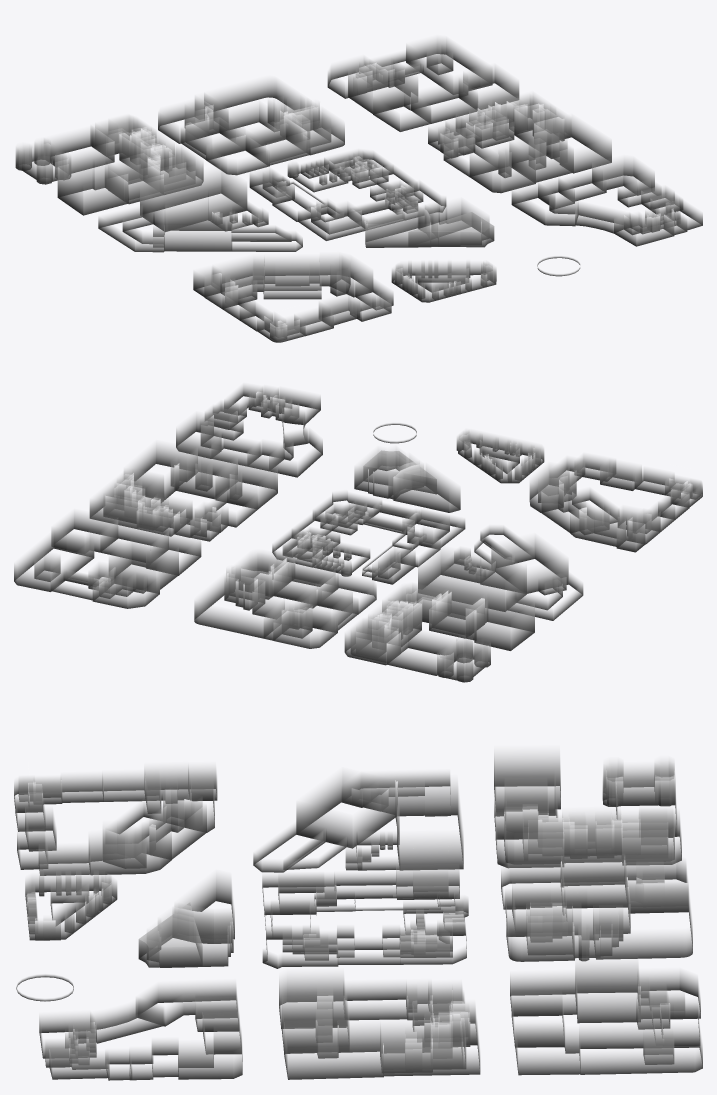
File: Pamplona_3D_Test.glb
3 renders of one model, top to bottom at view 1: azimuth 30°, elevation 25°; view 2: azimuth 150°, elevation 25°; view 3: azimuth 270°, elevation 25°, orthographic. The views are drawn at different scales.
Visible parts, largest first — view 1: pCube1228, pCube1251, pCube1181, pCube1224, pCube1317, pCube1281, pCube1454, pCube1277, pCube1452, pCube1287, pCube1453, pCube1290 (+80 smaller); view 2: pCube1228, pCube1251, pCube1181, pCube1224, pCube1281, pCube1277, pCube1317, pCube1454, pCube1452, pCube1179, pCube1453, pCube1287 (+82 smaller); view 3: pCube1281, pCube1454, pCube1224, pCube1251, pCube1228, pCube1181, pCube1277, pCube1289, pCube1453, pCube1317, pCube1323, pCube1867 (+95 smaller).
Boxes of the visible parts, x1=… form: pCube1228: x1=140, y1=168, x2=247, y2=232; pCube1251: x1=204, y1=78, x2=310, y2=131; pCube1181: x1=57, y1=162, x2=128, y2=215; pCube1224: x1=164, y1=208, x2=232, y2=251; pCube1317: x1=391, y1=262, x2=496, y2=302; pCube1281: x1=406, y1=37, x2=492, y2=94; pCube1454: x1=534, y1=116, x2=611, y2=173; pCube1277: x1=348, y1=62, x2=418, y2=113; pCube1452: x1=469, y1=145, x2=535, y2=193; pCube1287: x1=365, y1=208, x2=431, y2=247; pCube1453: x1=509, y1=134, x2=573, y2=182; pCube1290: x1=408, y1=212, x2=494, y2=247; pCube1228: x1=418, y1=549, x2=526, y2=611; pCube1251: x1=194, y1=576, x2=284, y2=638; pCube1181: x1=465, y1=596, x2=534, y2=650; pCube1224: x1=491, y1=536, x2=568, y2=593; pCube1281: x1=14, y1=532, x2=94, y2=591; pCube1277: x1=108, y1=541, x2=178, y2=592; pCube1317: x1=458, y1=430, x2=544, y2=483; pCube1454: x1=124, y1=443, x2=197, y2=500; pCube1452: x1=215, y1=460, x2=277, y2=508; pCube1179: x1=387, y1=630, x2=458, y2=675; pCube1453: x1=174, y1=450, x2=237, y2=499; pCube1287: x1=393, y1=465, x2=460, y2=512; pCube1281: x1=579, y1=1025, x2=702, y2=1074; pCube1454: x1=284, y1=1023, x2=383, y2=1079; pCube1224: x1=296, y1=771, x2=397, y2=848; pCube1251: x1=593, y1=887, x2=692, y2=959; pCube1228: x1=395, y1=780, x2=463, y2=870; pCube1181: x1=494, y1=750, x2=560, y2=816; pCube1277: x1=575, y1=960, x2=640, y2=1023; pCube1289: x1=146, y1=911, x2=233, y2=967; pCube1453: x1=281, y1=997, x2=349, y2=1052; pCube1317: x1=25, y1=873, x2=117, y2=940; pCube1323: x1=135, y1=981, x2=237, y2=1026; pCube1867: x1=88, y1=826, x2=171, y2=875.
Bounding box in the file's own units: 0.0311 × 0.00425 × 0.0305.
Materials: 1 (1 with a texture image).
